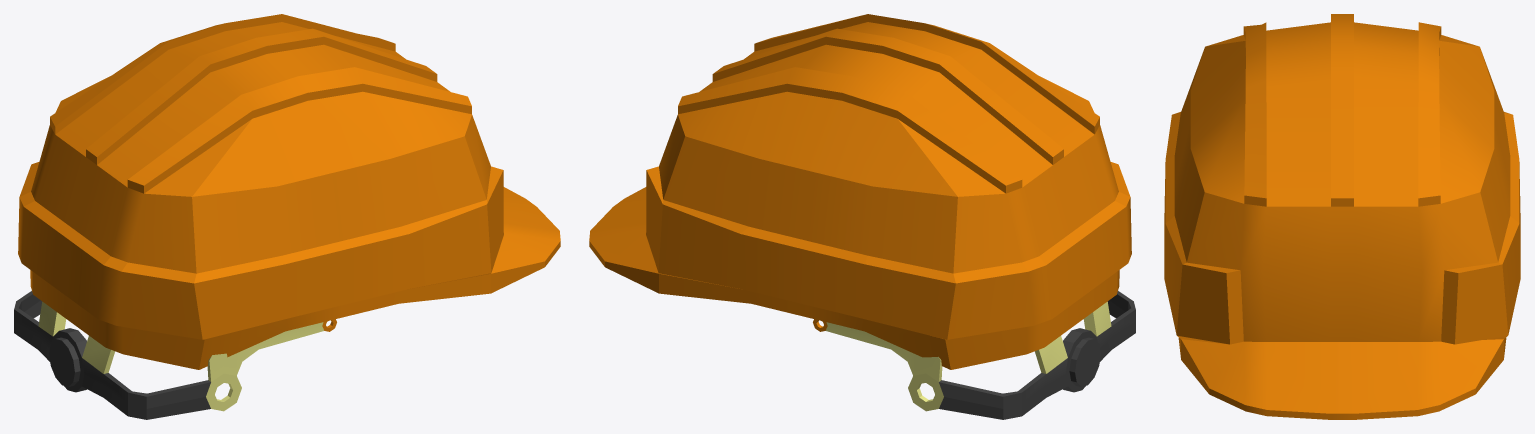
Rendered from Helmet.fbx.
The picture shows the model from 3 angles, left to right: view 1: azimuth 30°, elevation 25°; view 2: azimuth 150°, elevation 25°; view 3: azimuth 270°, elevation 25°; orthographic projection. The views are drawn at different scales.
Visible parts, largest first — view 1: Helmet; view 2: Helmet; view 3: Helmet.
Part boxes in pixels (x1,y1,x2,y2): Helmet: (14, 14, 560, 419); Helmet: (589, 14, 1135, 419); Helmet: (1164, 14, 1520, 419).
Size of the model in its own units: 26.06 by 15.9 by 16.26.
